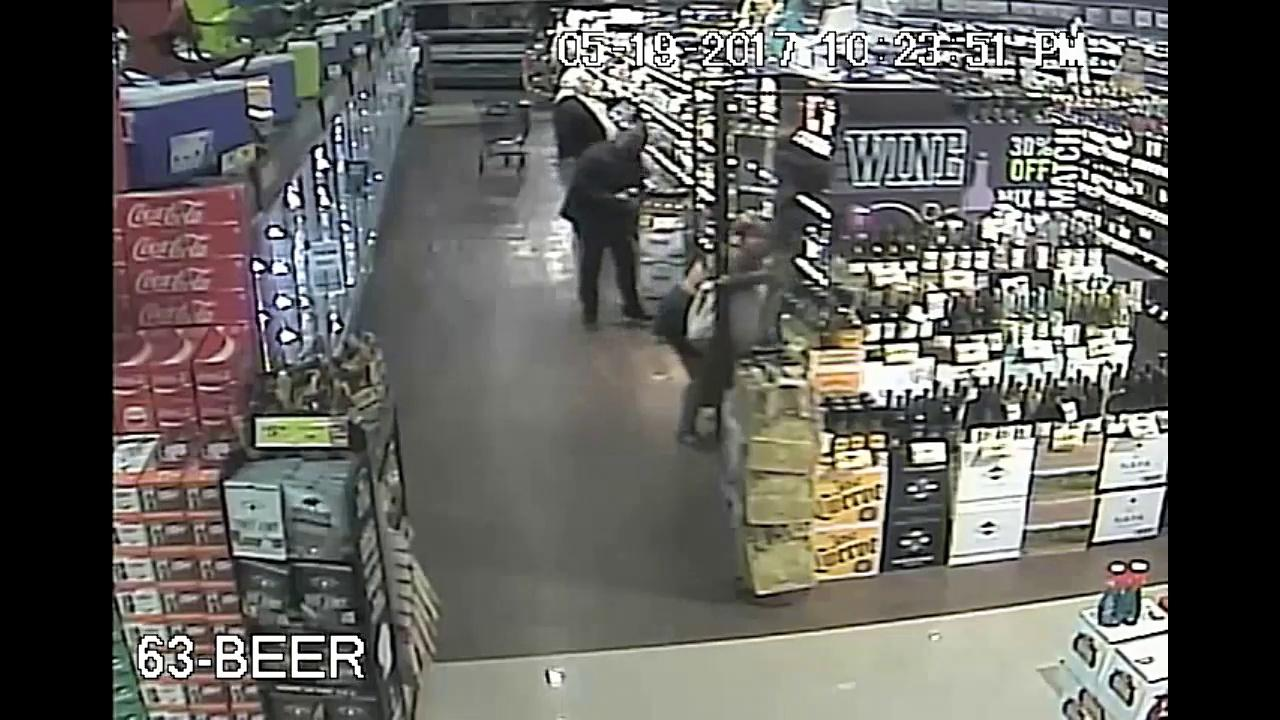3: (529, 55, 611, 194), (592, 97, 675, 196)
4: (630, 191, 835, 478)
persone: (685, 278, 791, 366)
